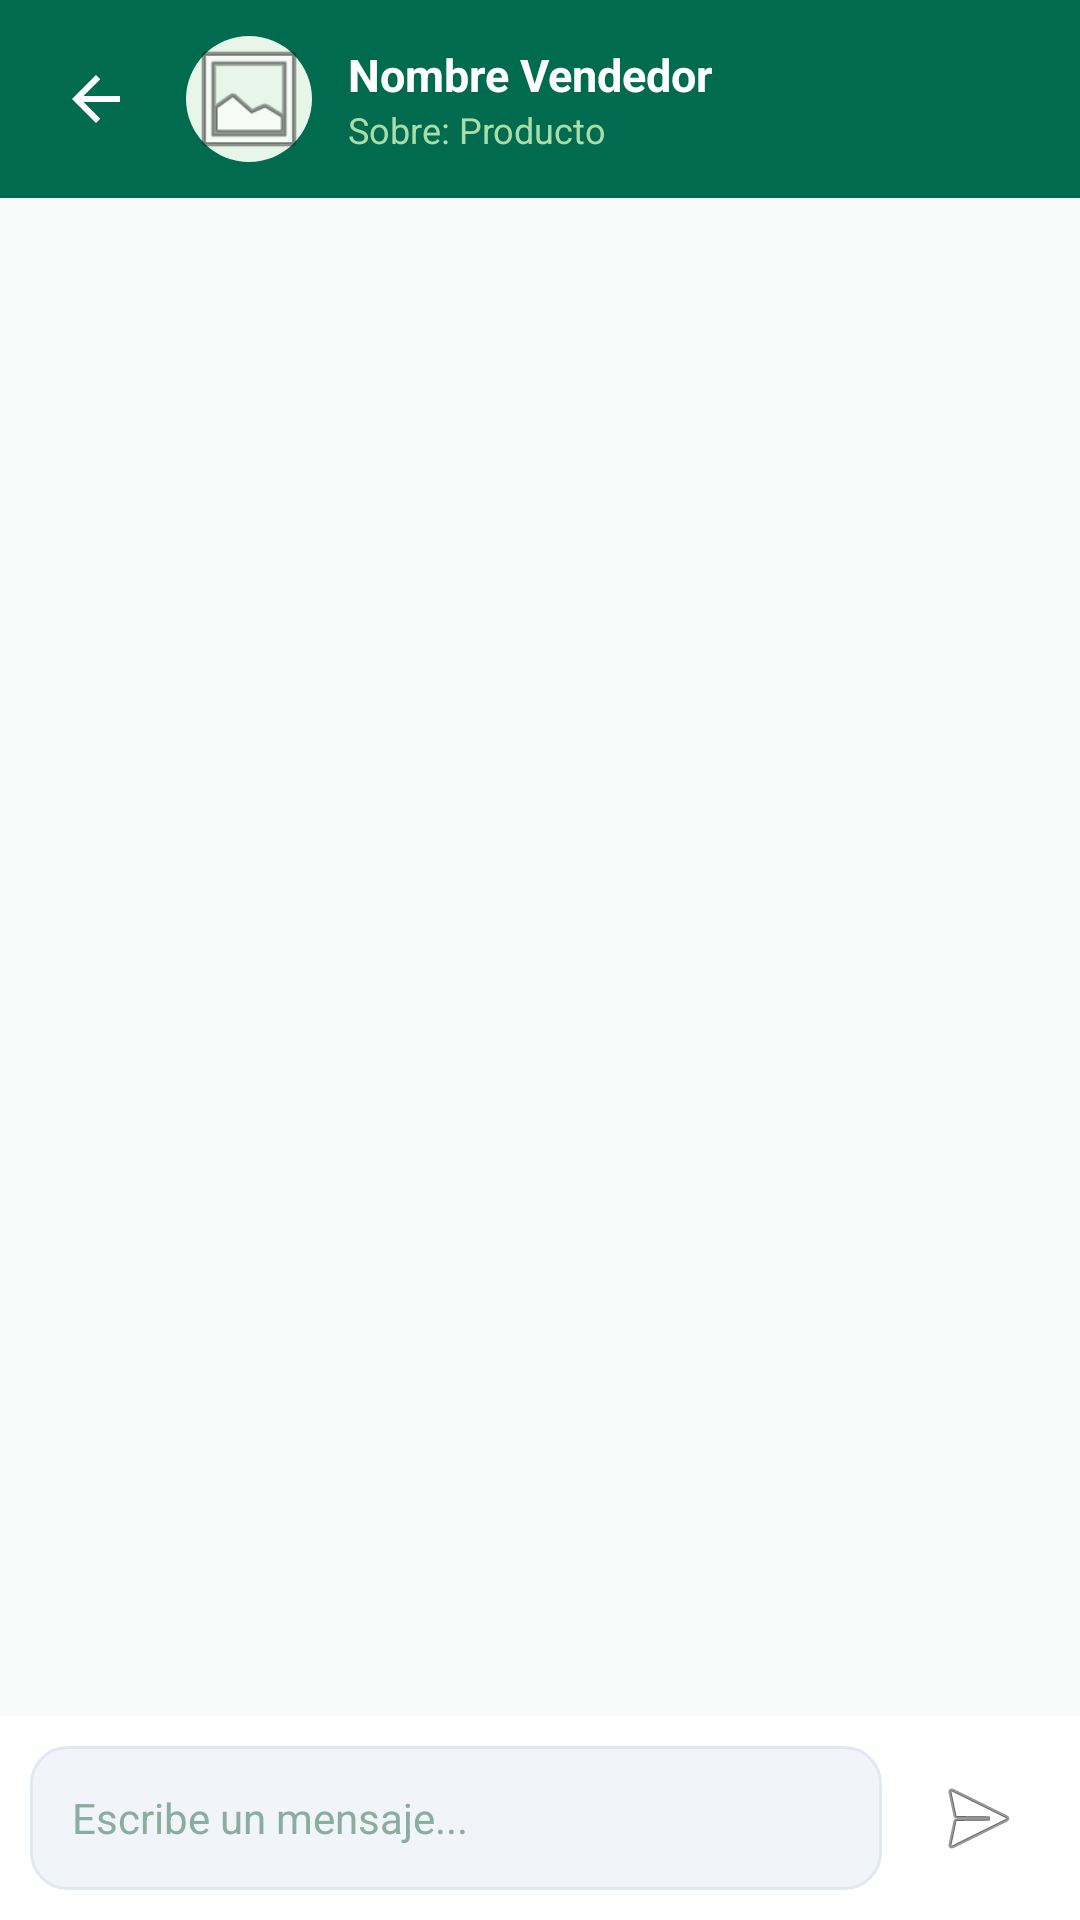

Icon click points for this 1080px×1920px phone screenshot, format (x=x, y=y):
Enviar: (x=979, y=1818)
gallery: (x=249, y=99)
Volver: (x=96, y=99)
